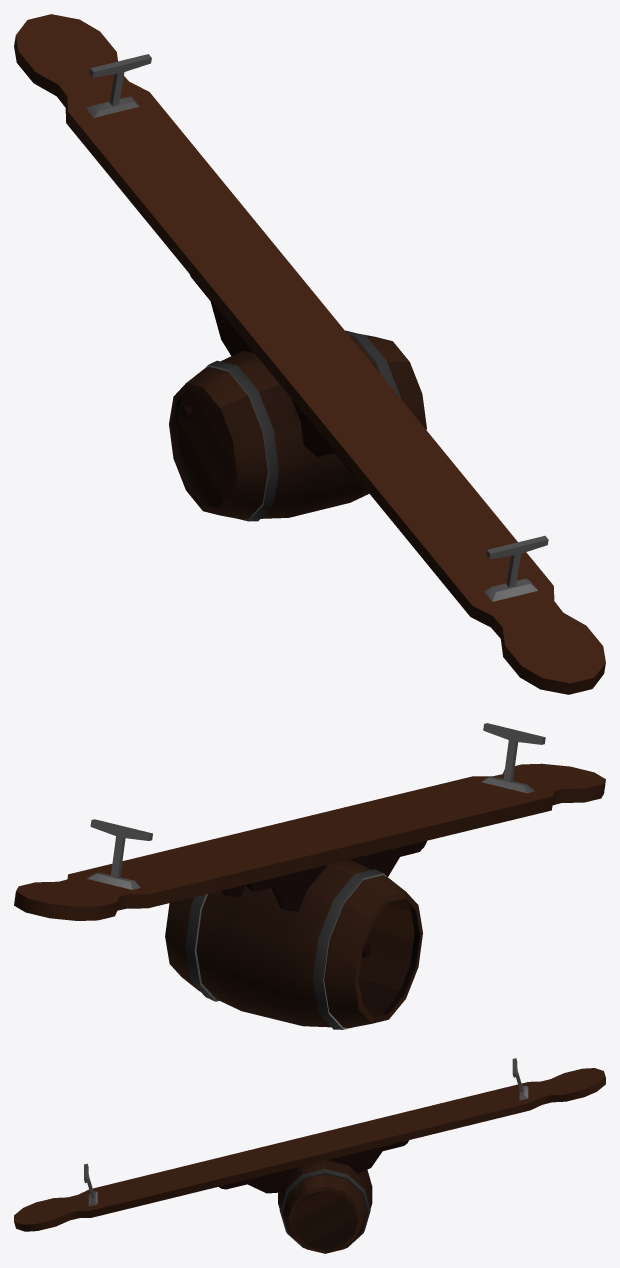
File: Seesaw_Barrel.fbx
The picture shows the model from 3 angles, top to bottom: view 1: azimuth 30°, elevation 25°; view 2: azimuth 150°, elevation 25°; view 3: azimuth 270°, elevation 25°; orthographic projection. The views are drawn at different scales.
Parts seen in each view (by area): view 1: Seesaw_Barrel; view 2: Seesaw_Barrel; view 3: Seesaw_Barrel.
Boxes of the visible parts, x1,y1,x2,y2 form: Seesaw_Barrel: [14, 14, 605, 694]; Seesaw_Barrel: [14, 723, 605, 1029]; Seesaw_Barrel: [14, 1058, 605, 1253].
Size of the model in its own units: 90.59 by 143 by 449.
